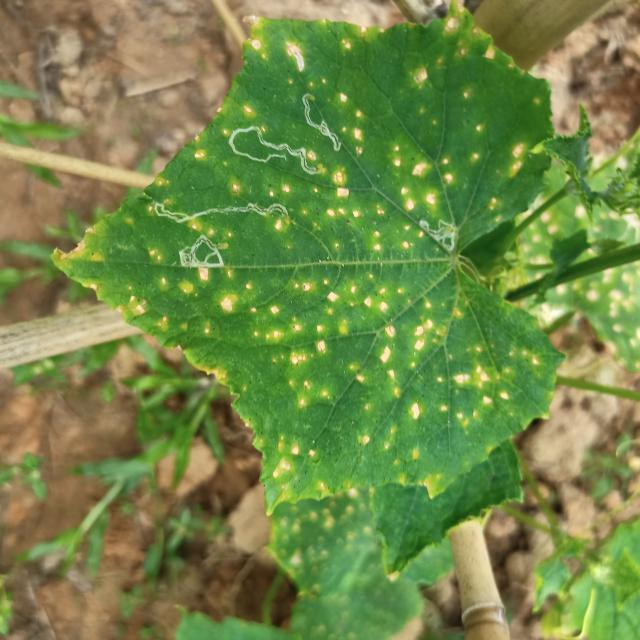disease_cucumber: (80, 259, 563, 489), (139, 22, 540, 296)
